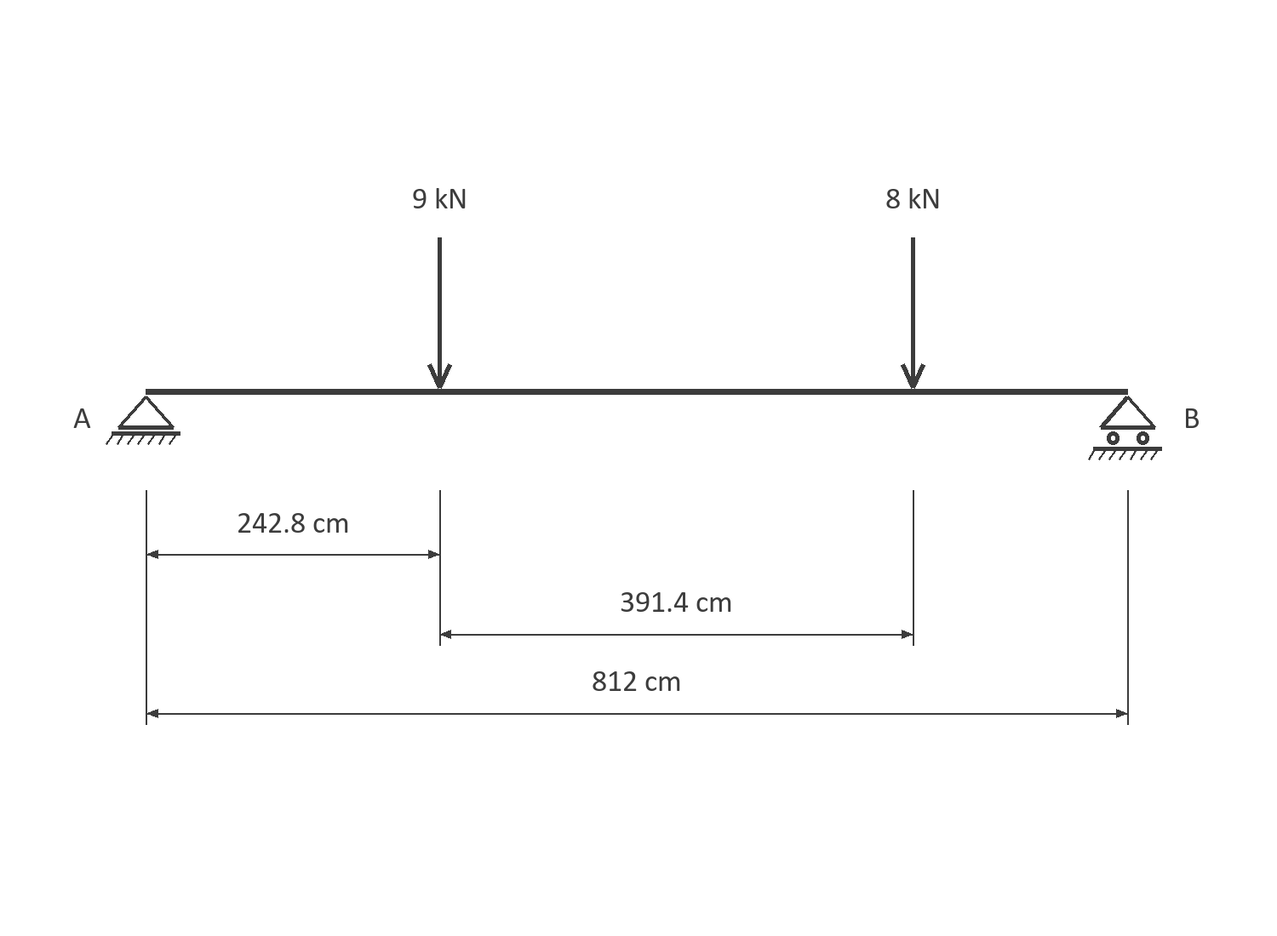pin_support: (106, 396, 180, 445)
point_load: (427, 237, 452, 389), (901, 237, 925, 389)
roller_support: (1088, 396, 1162, 460)
